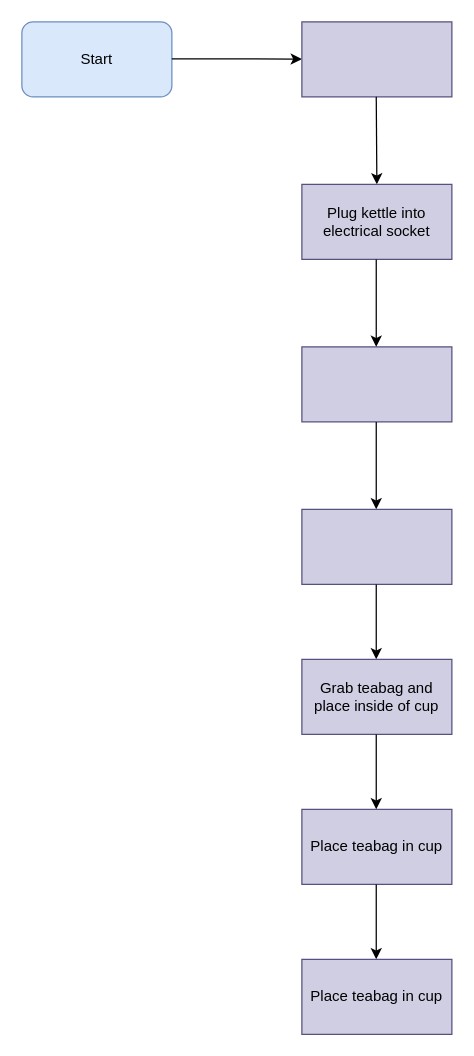
Some shapes in this 474 by 1056 pixel diagram are drawn without their labels. Each missing label, with the centre of its shape:
Grab cup and place cup base down: the point at 376,546
Pour water in kettle: the point at 376,59
Switch the kettle on: the point at 376,384
